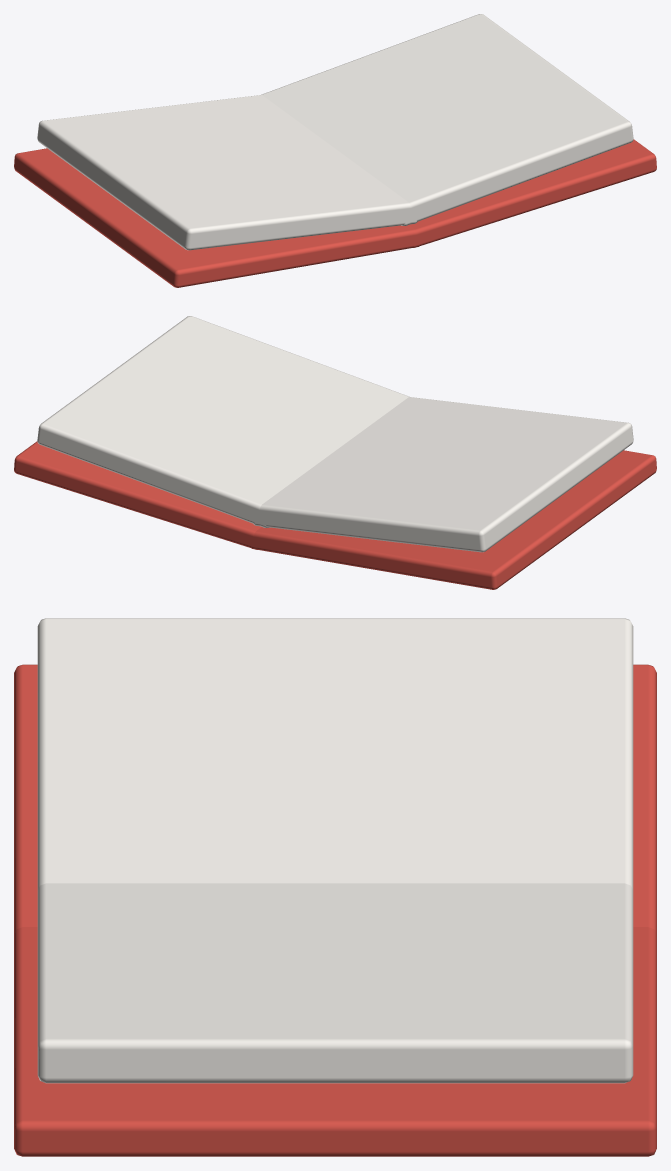
Rendered from school-open-book.glb.
3 views of the same model, one above another, from view 1: azimuth 30°, elevation 25°; view 2: azimuth 150°, elevation 25°; view 3: azimuth 270°, elevation 25° (orthographic). The views are drawn at different scales.
Parts seen in each view (by area): view 1: page-right, page-left, cover-left, cover-right; view 2: page-right, page-left, cover-left, cover-right; view 3: page-left, page-right, cover-right, cover-left.
Boxes of the visible parts, x1,y1,x2,y2 form: page-right: (261, 14, 633, 225); page-left: (37, 95, 417, 250); cover-left: (14, 148, 420, 287); cover-right: (409, 139, 656, 247); page-right: (37, 316, 409, 527); page-left: (253, 397, 633, 552); cover-left: (250, 450, 656, 589); cover-right: (14, 441, 261, 549); page-left: (37, 618, 633, 890); page-right: (37, 883, 633, 1083); cover-right: (14, 927, 656, 1156); cover-left: (14, 664, 656, 934).
Bounding box in the file's own units: 1.4 × 0.1885 × 0.82.
